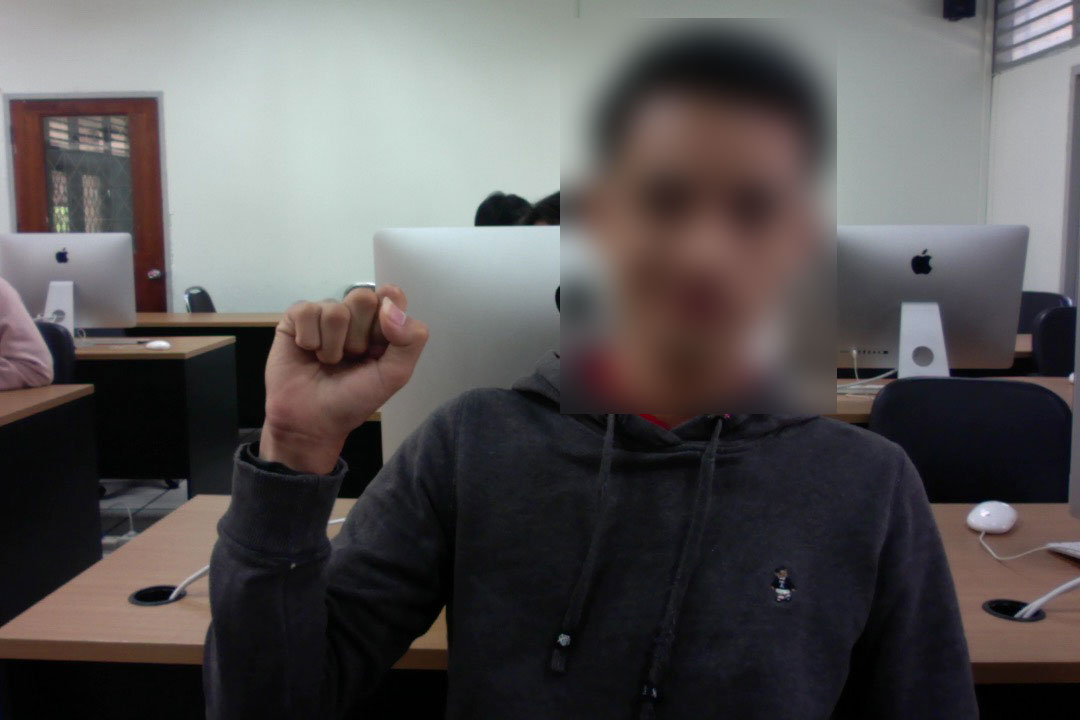sor: (255, 278, 431, 445)
